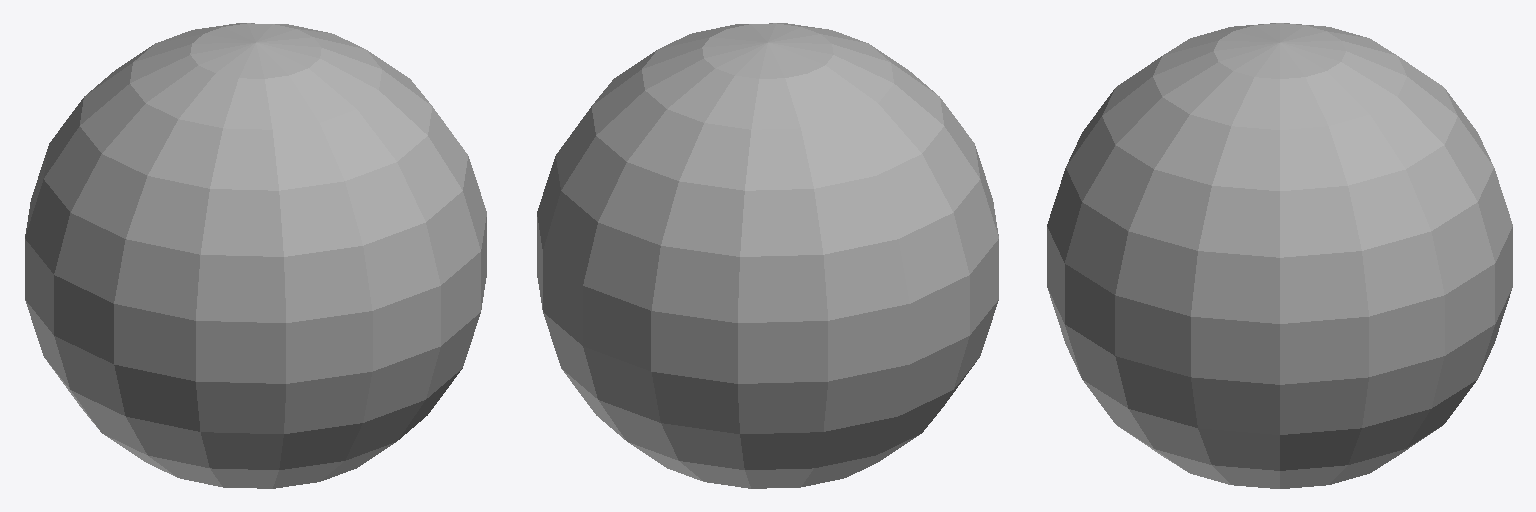
Rendered from NormalBullet.obj.
3 renders of one model, left to right at view 1: azimuth 30°, elevation 25°; view 2: azimuth 150°, elevation 25°; view 3: azimuth 270°, elevation 25°, orthographic.
Visible parts, largest first — view 1: FireBullet; view 2: FireBullet; view 3: FireBullet.
Part boxes in pixels (left/top/right/bottom): FireBullet: left=25, top=23, right=486, bottom=488; FireBullet: left=537, top=23, right=998, bottom=488; FireBullet: left=1047, top=23, right=1512, bottom=488.
Size of the model in its own units: 1.98 by 2 by 1.98.